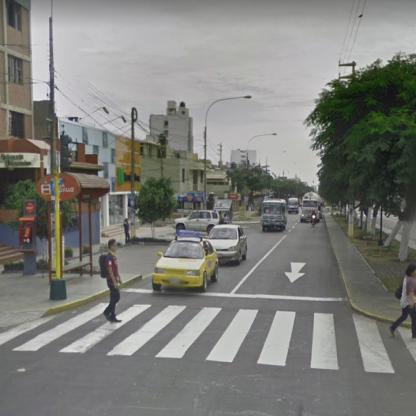Peaton: (101, 240, 122, 325)
Pista: (18, 205, 366, 365)
Vehiculo: (152, 237, 219, 297), (205, 227, 247, 265), (261, 200, 287, 233)
